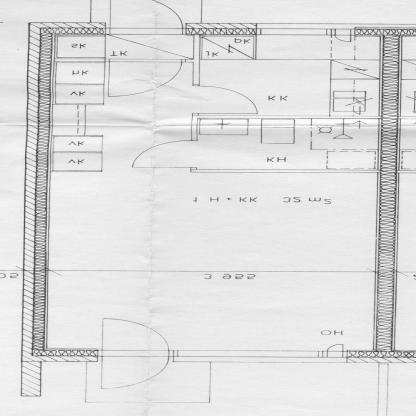door: (90, 315, 174, 393), (102, 56, 197, 100), (102, 0, 190, 38), (127, 136, 208, 171), (191, 86, 263, 115)
window: (174, 342, 351, 361), (252, 23, 366, 43)
